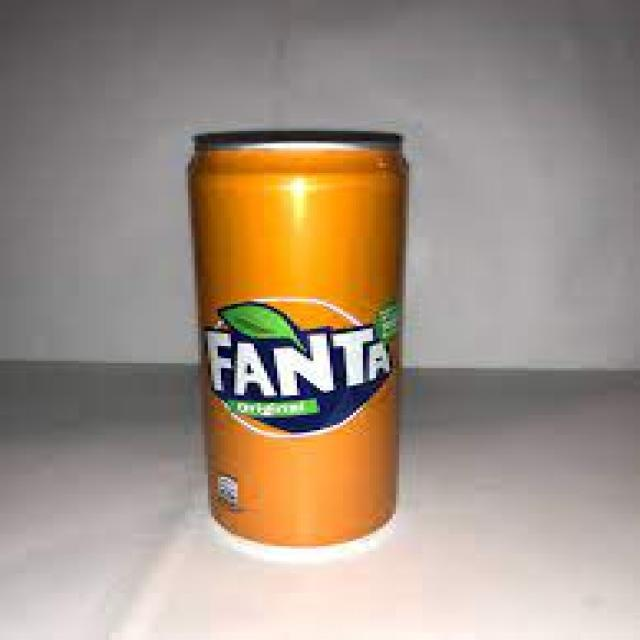Fanta: (185, 126, 413, 551)
